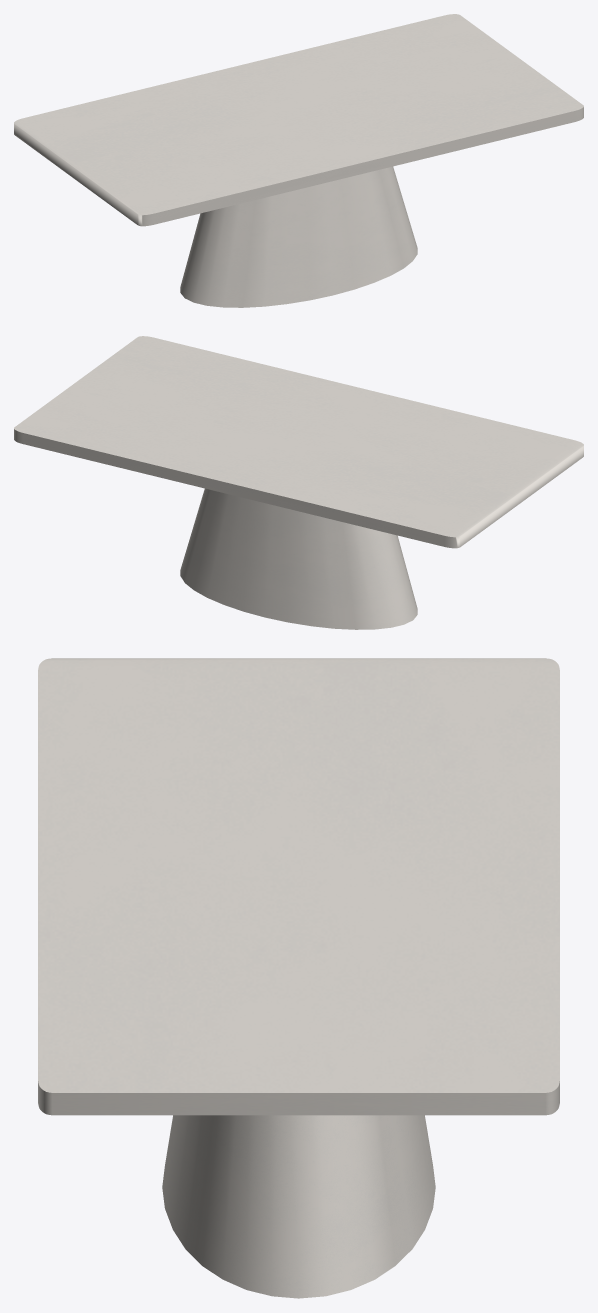
File: pearlwhite_softrecta_standard_eqone.glb
The picture shows the model from 3 angles, top to bottom: view 1: azimuth 30°, elevation 25°; view 2: azimuth 150°, elevation 25°; view 3: azimuth 270°, elevation 25°; orthographic projection. The views are drawn at different scales.
Visible parts, largest first — view 1: pearlwhite_softrectastandard_eqone; view 2: pearlwhite_softrectastandard_eqone; view 3: pearlwhite_softrectastandard_eqone.
Part boxes in pixels (x1,y1,x2,y2): pearlwhite_softrectastandard_eqone: (14, 14, 583, 307); pearlwhite_softrectastandard_eqone: (14, 336, 583, 629); pearlwhite_softrectastandard_eqone: (38, 658, 559, 1298).
Size of the model in its own units: 7.5 by 2.51 by 3.8.
1 material, 1 textured.
